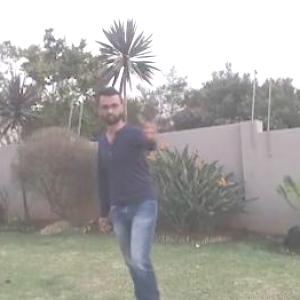takeoff-hand: (135, 102, 171, 142)
